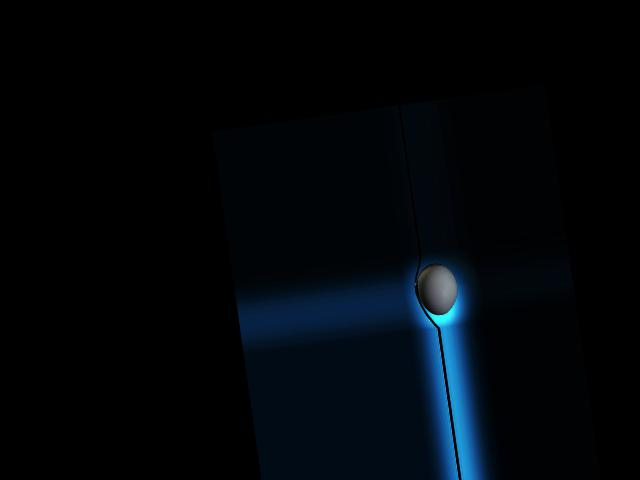egg: (414, 260, 460, 317)
